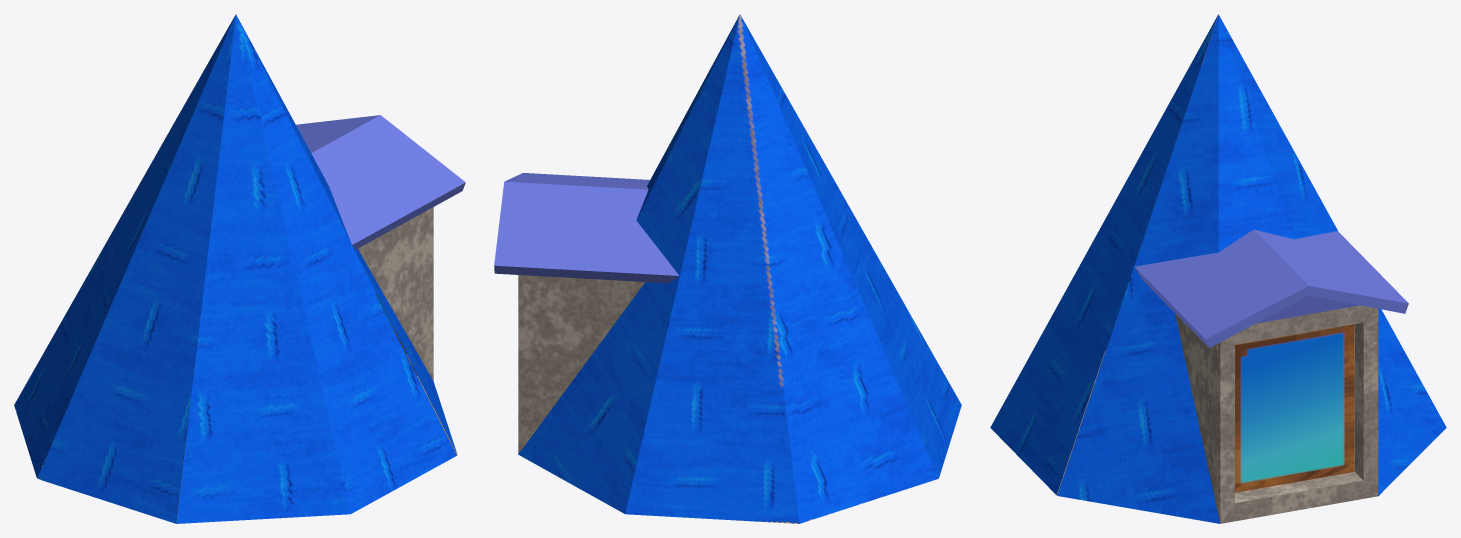
The model's file is PointyRoofTower.fbx.
The picture shows the model from 3 angles, left to right: view 1: azimuth 30°, elevation 25°; view 2: azimuth 150°, elevation 25°; view 3: azimuth 270°, elevation 25°; orthographic projection.
Visible parts, largest first — view 1: RoofBig, RoofSmall; view 2: RoofBig, RoofSmall; view 3: RoofBig, RoofSmall.
Boxes of the visible parts, left/top/right/bottom form: RoofBig: left=14, top=14, right=457, bottom=523; RoofSmall: left=296, top=115, right=465, bottom=249; RoofBig: left=518, top=14, right=961, bottom=523; RoofSmall: left=494, top=173, right=678, bottom=283; RoofBig: left=990, top=14, right=1446, bottom=523; RoofSmall: left=1135, top=229, right=1408, bottom=347.
Bounding box in the file's own units: 212 × 200 × 200.
Materials: 2 (1 with a texture image).
